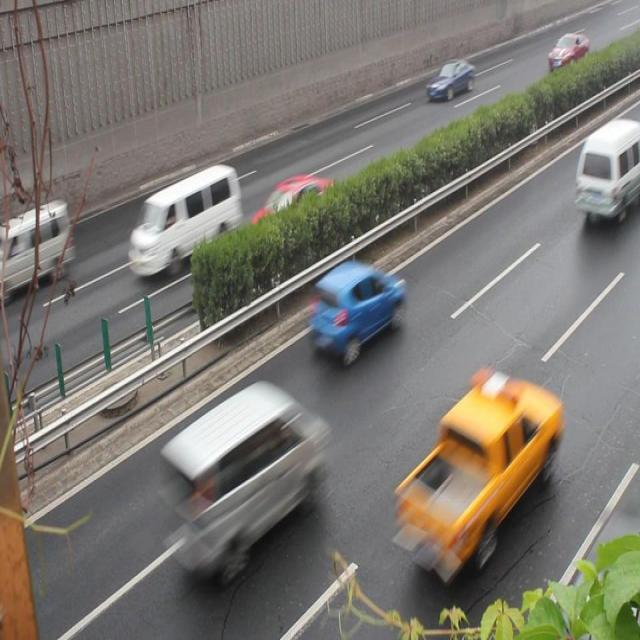bus: (392, 367, 560, 570)
car: (309, 261, 405, 360), (249, 174, 336, 247), (424, 57, 474, 101)
truck: (164, 379, 328, 564), (130, 166, 241, 274), (0, 201, 74, 294), (576, 123, 640, 222)
